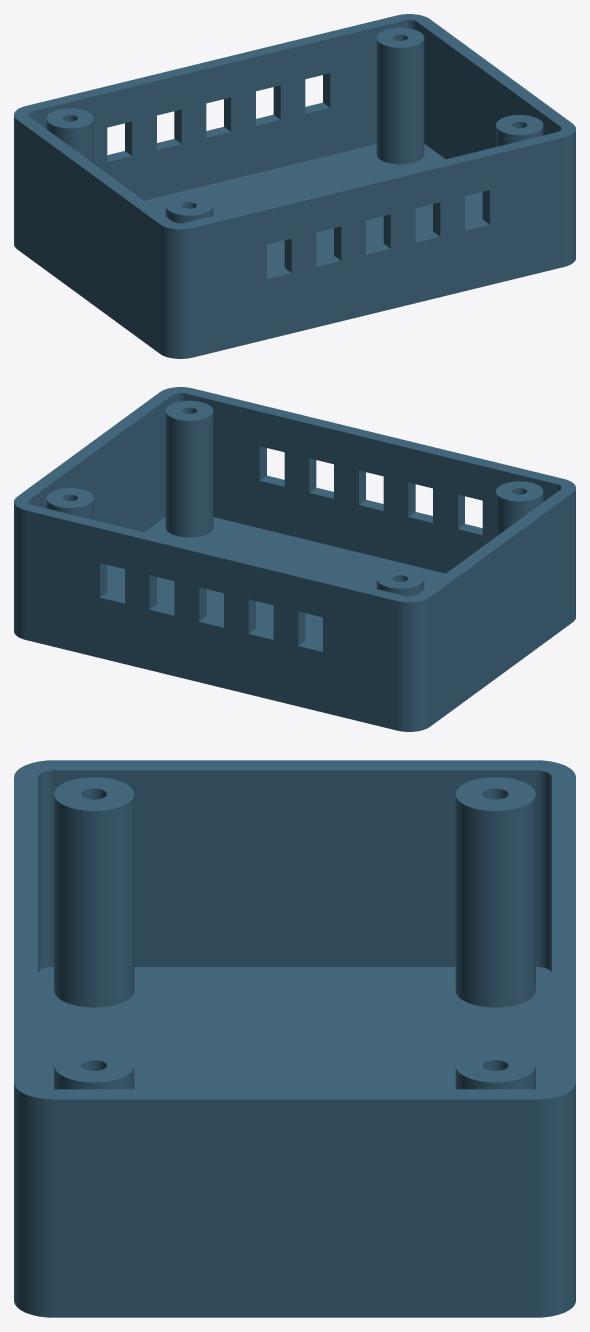
The model's file is enclosure_base.glb.
3 renders of one model, top to bottom at view 1: azimuth 30°, elevation 25°; view 2: azimuth 150°, elevation 25°; view 3: azimuth 270°, elevation 25°, orthographic. The views are drawn at different scales.
Visible parts, largest first — view 1: enclosure_base; view 2: enclosure_base; view 3: enclosure_base.
Part boxes in pixels (bbox=[...]): enclosure_base: bbox=[14, 14, 575, 358]; enclosure_base: bbox=[14, 387, 575, 731]; enclosure_base: bbox=[14, 760, 575, 1317].
Bounding box in the file's own units: 0.1 × 0.03 × 0.07.
